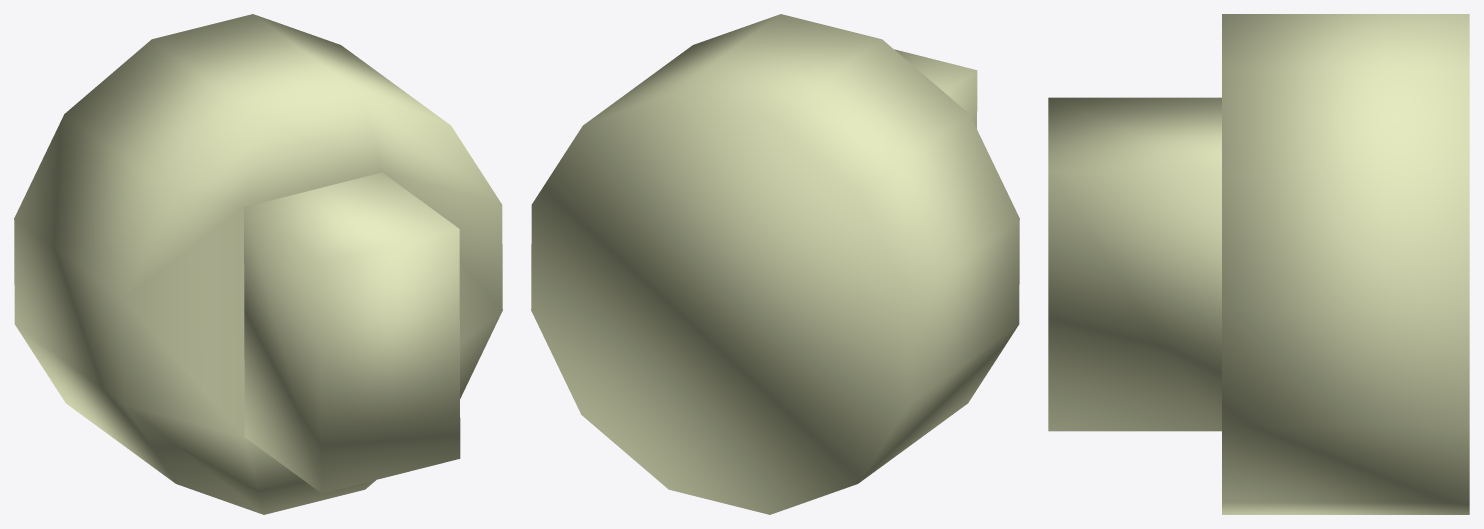
The model's file is K_OvenKnob.glb.
3 renders of one model, left to right at view 1: azimuth 30°, elevation 25°; view 2: azimuth 150°, elevation 25°; view 3: azimuth 270°, elevation 25°, orthographic. The views are drawn at different scales.
Visible parts, largest first — view 1: Kitchen_OvenKnob; view 2: Kitchen_OvenKnob; view 3: Kitchen_OvenKnob.
Part boxes in pixels (x1,y1,x2,y2): Kitchen_OvenKnob: [14, 14, 502, 514]; Kitchen_OvenKnob: [531, 14, 1019, 514]; Kitchen_OvenKnob: [1048, 14, 1469, 514].
Size of the model in its own units: 0.1369 by 0.1369 by 0.1173.
